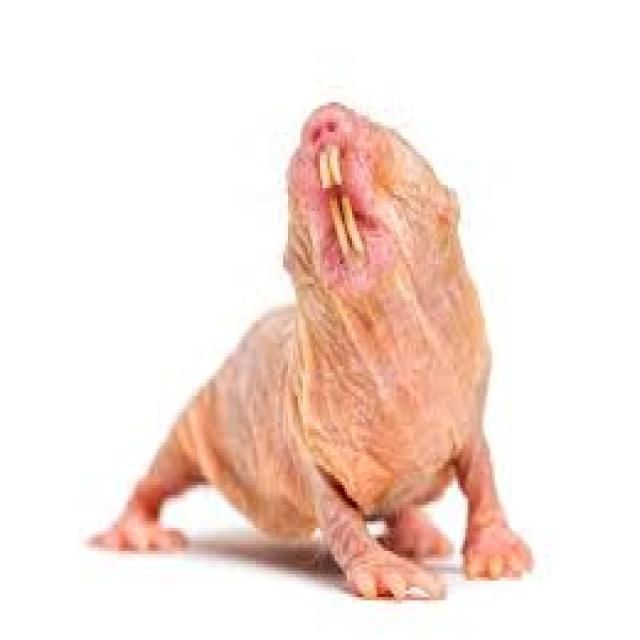rat: (84, 96, 534, 600)
